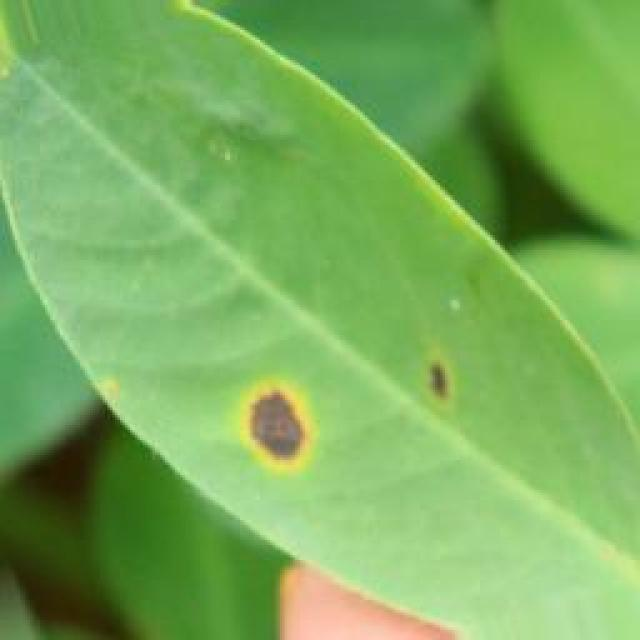Sigatoka: (235, 363, 344, 486), (400, 335, 487, 426)
